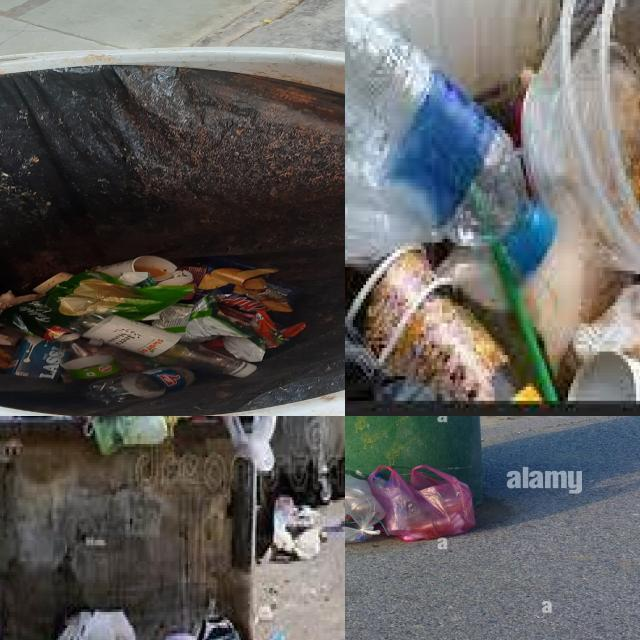Disposable: (523, 0, 640, 273), (349, 246, 542, 404), (358, 0, 559, 95)
Garbage: (345, 0, 640, 404), (0, 256, 304, 403), (345, 466, 476, 543)
Plastic_Bag: (345, 163, 433, 267), (368, 465, 476, 541), (223, 416, 277, 471), (93, 416, 168, 455), (345, 473, 385, 543), (117, 416, 168, 447)
Plastic_Straw: (491, 242, 558, 404)
Plastic_bottle: (345, 0, 557, 274), (69, 312, 256, 377), (86, 368, 195, 403), (58, 333, 124, 382)
Plastic_wraper: (0, 271, 195, 337), (215, 293, 304, 349), (152, 295, 250, 342), (224, 336, 264, 362), (118, 272, 155, 288), (178, 267, 207, 285), (184, 296, 193, 299), (224, 270, 230, 272)
Tetrapack: (9, 336, 66, 380)
